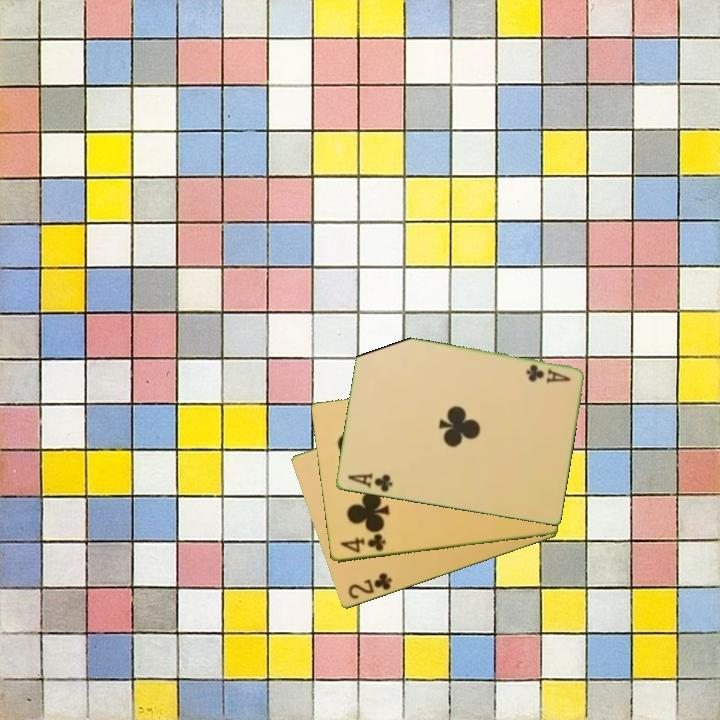2c: (344, 569, 394, 602)
4c: (336, 531, 389, 556)
Ac: (344, 469, 395, 495), (523, 361, 573, 386)
